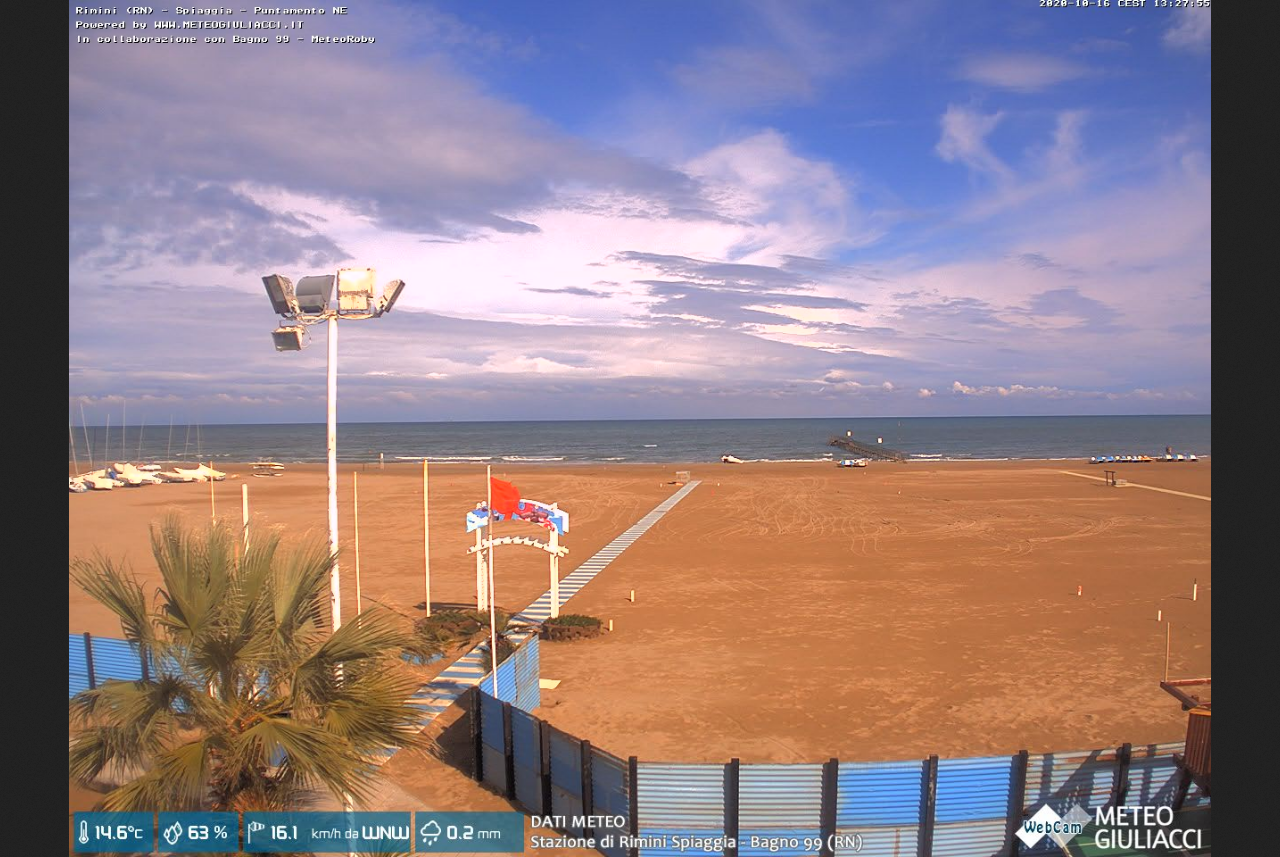yes: (488, 475, 518, 523)
